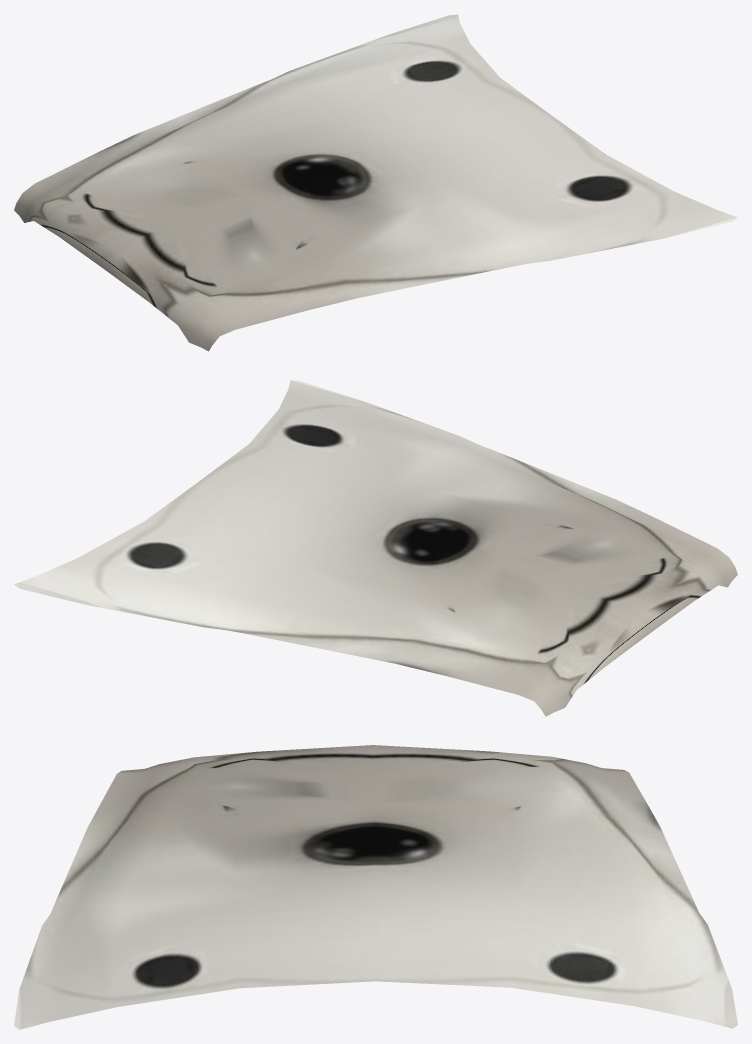
Rendered from cofre1.obj.
The picture shows the model from 3 angles, top to bottom: view 1: azimuth 30°, elevation 25°; view 2: azimuth 150°, elevation 25°; view 3: azimuth 270°, elevation 25°; orthographic projection. The views are drawn at different scales.
Visible parts, largest first — view 1: LowBody.001_Body.001; view 2: LowBody.001_Body.001; view 3: LowBody.001_Body.001.
Part boxes in pixels (box(x1,y1,x2,y2)): LowBody.001_Body.001: box(14, 14, 737, 351); LowBody.001_Body.001: box(14, 380, 737, 716); LowBody.001_Body.001: box(14, 745, 737, 1029).
Bounding box in the file's own units: 1.63 × 0.1877 × 1.6.
